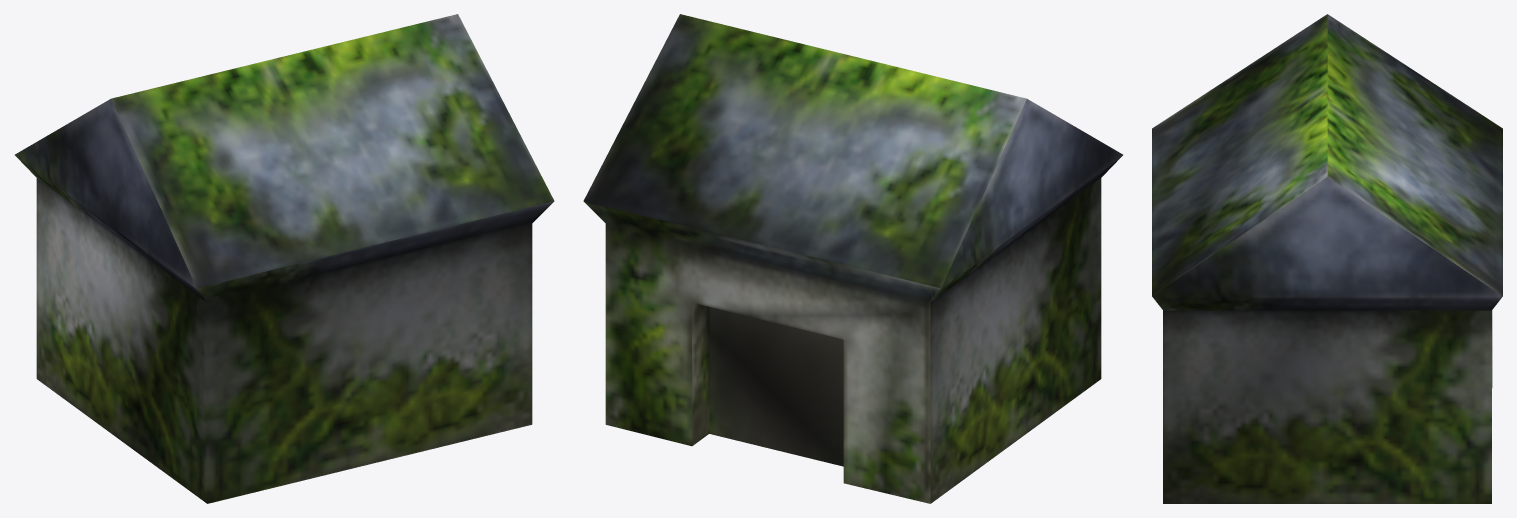
File: a_SWEwgen03.glb
3 views of the same model, side by side, from view 1: azimuth 30°, elevation 25°; view 2: azimuth 150°, elevation 25°; view 3: azimuth 270°, elevation 25° (orthographic). The views are drawn at different scales.
Visible parts, largest first — view 1: a_SWEwgen03; view 2: a_SWEwgen03; view 3: a_SWEwgen03.
Part boxes in pixels (x1,y1,x2,y2): a_SWEwgen03: (15,14,554,503); a_SWEwgen03: (583,14,1122,503); a_SWEwgen03: (1152,14,1502,503).
Bounding box in the file's own units: 0.729 × 0.6736 × 0.644.
Materials: 1 (1 with a texture image).
